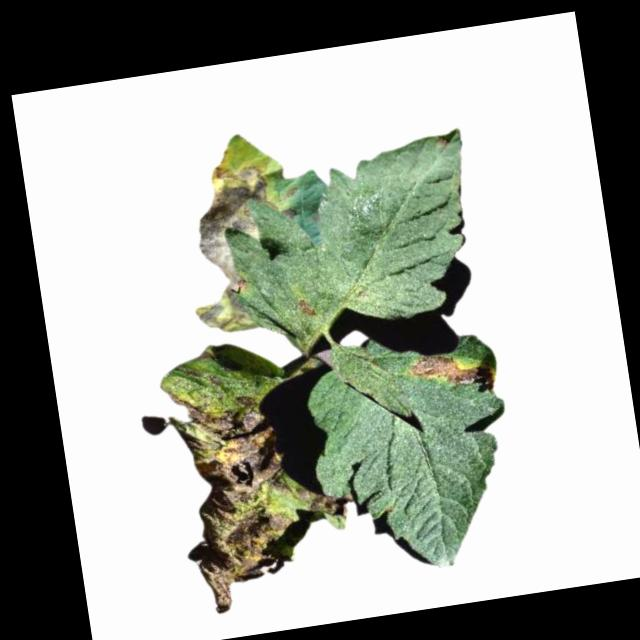Early_blight: (168, 377, 303, 616), (193, 158, 290, 286), (188, 282, 258, 339), (410, 350, 481, 398), (308, 488, 356, 522), (293, 296, 319, 321), (279, 183, 300, 205), (435, 132, 451, 150), (282, 207, 296, 222)
